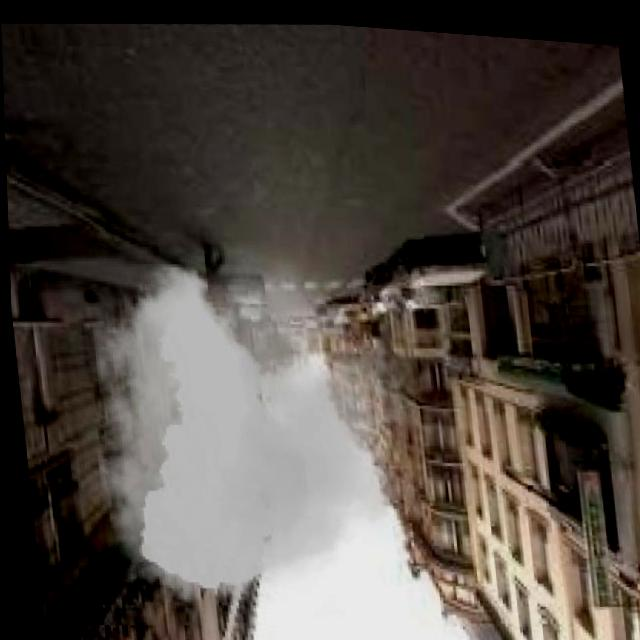Smoke: (43, 234, 449, 611)
